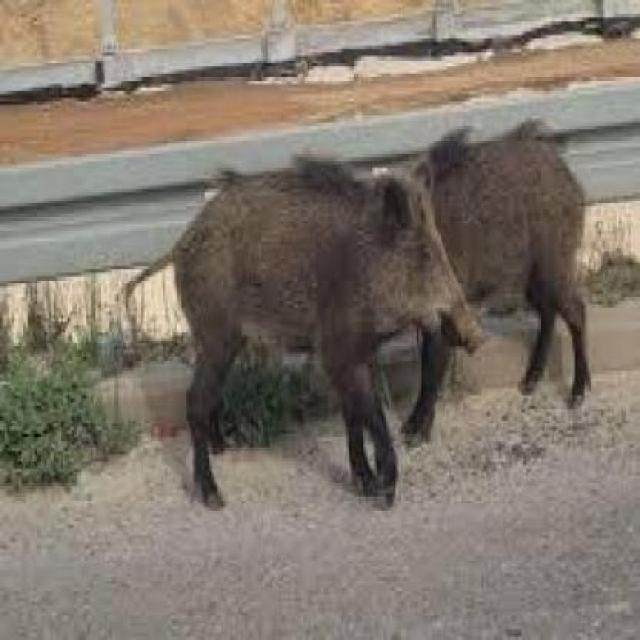wildboar: (119, 151, 482, 515), (298, 118, 594, 457)
